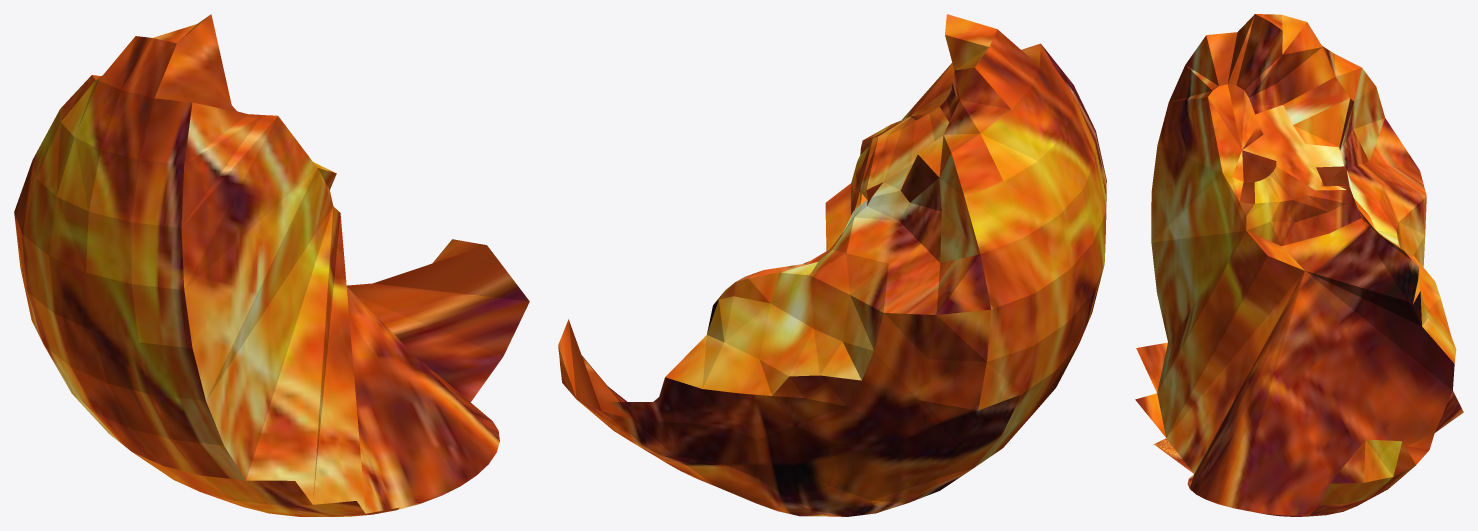
The model's file is ResultEarth1.obj.
3 views of the same model, side by side, from view 1: azimuth 30°, elevation 25°; view 2: azimuth 150°, elevation 25°; view 3: azimuth 270°, elevation 25° (orthographic). The views are drawn at different scales.
Visible parts, largest first — view 1: 球; view 2: 球; view 3: 球.
Part boxes in pixels (bbox=[...]): 球: bbox=[14, 14, 529, 516]; 球: bbox=[558, 14, 1106, 516]; 球: bbox=[1135, 14, 1463, 516].
Size of the model in its own units: 1.79 by 1.78 by 1.27.
Materials: 1 (1 with a texture image).
